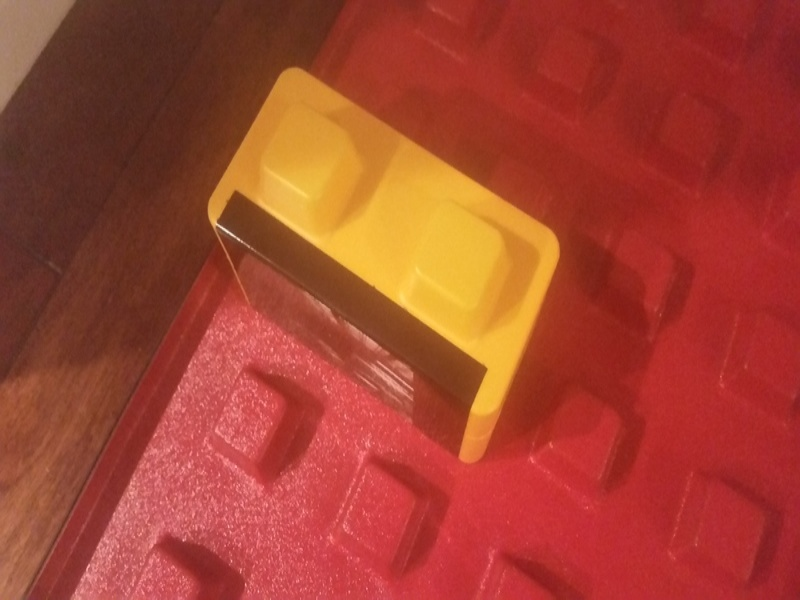Skystone: (202, 61, 565, 483)
